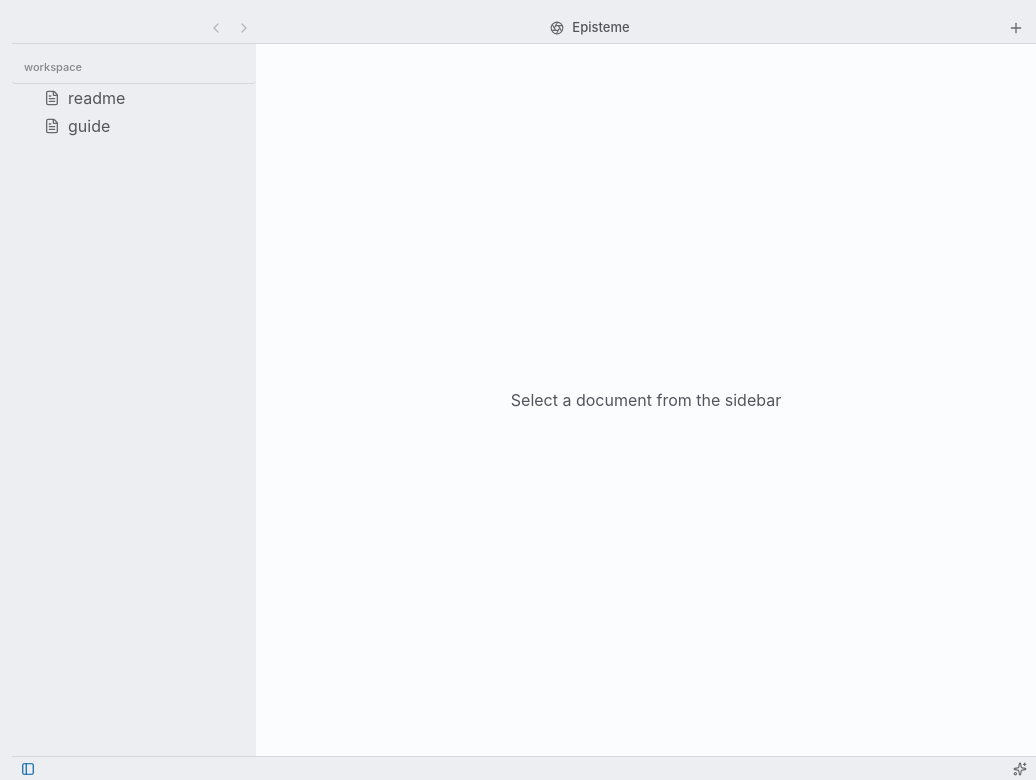
Test case: Document viewer integration › select file → content renders in viewer
This screenshot has width=1036, height=780.
Click a file in the sidebar
Click the list item "readme": coordinates (134, 98) 12,84 -> 256,112
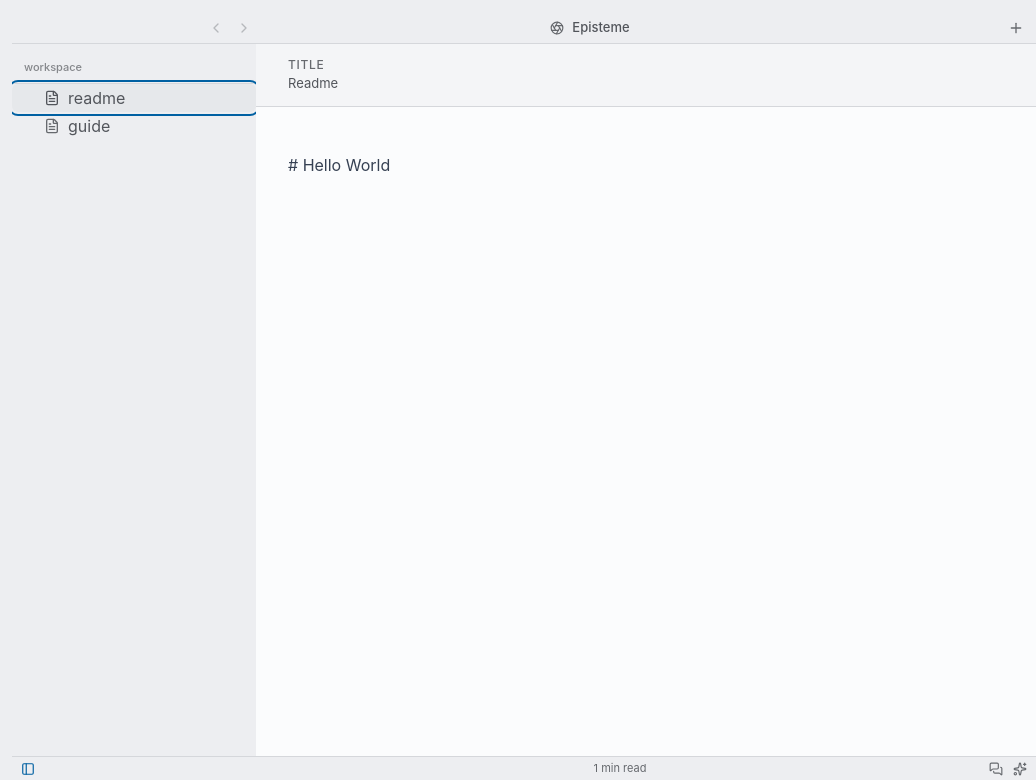
Expected: the text "title" is shown, 288,57 -> 325,72
Expected: the text "Readme" is shown, 288,74 -> 338,94
Expected: the element showing "# Hello World" is shown, 288,154 -> 390,174
